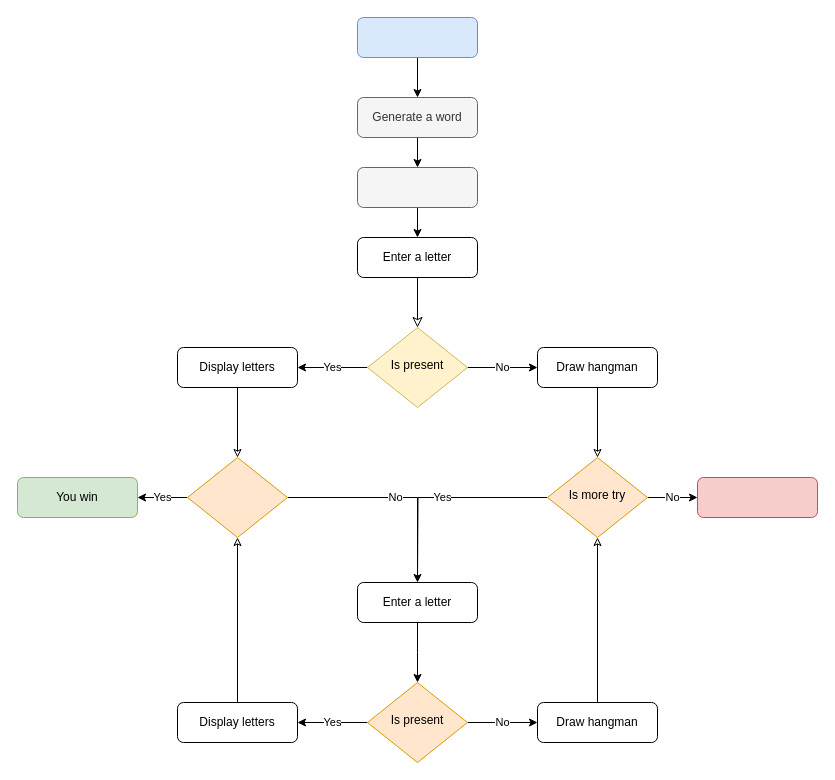
Some shapes in this 835 by 780 pixel diagram are drawn without their labels. The shapes that lost their labels are listed below. From the top down, each one's box as (x1, y1, x2, y2) in pixels, then its label:
(356, 16, 478, 58): Start the game
(356, 166, 478, 208): Generate spaces
(186, 456, 288, 538): Is word found
(696, 476, 818, 518): You lose
